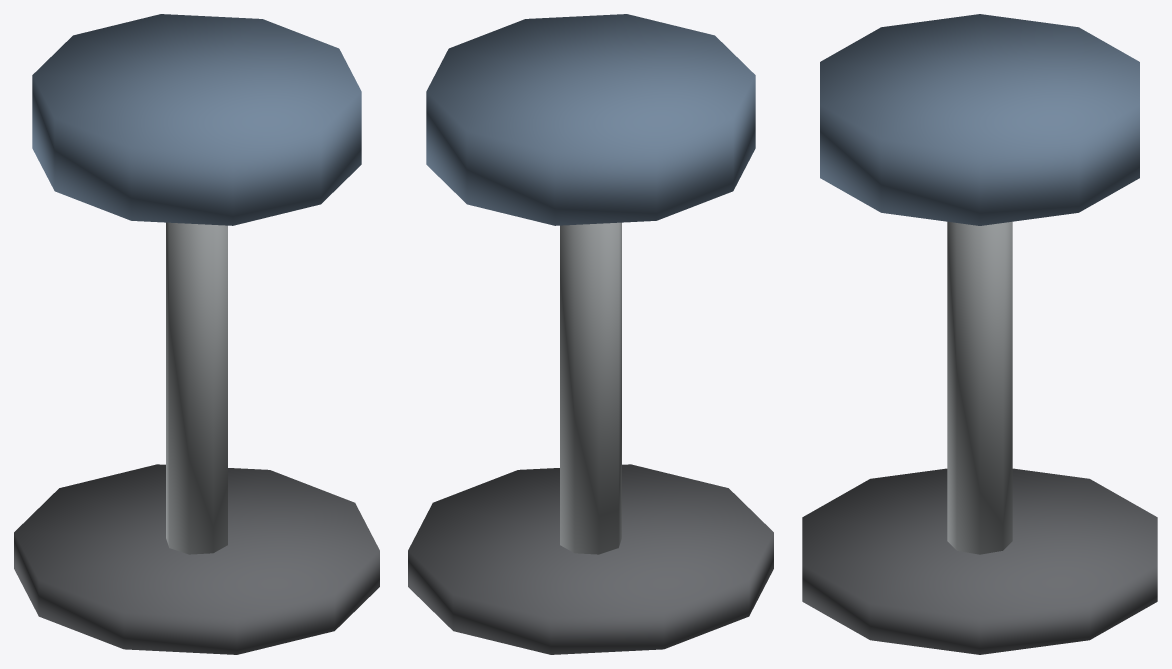
The model's file is lab_stool__compact.glb.
3 renders of one model, left to right at view 1: azimuth 30°, elevation 25°; view 2: azimuth 150°, elevation 25°; view 3: azimuth 270°, elevation 25°, orthographic.
Visible parts, largest first — view 1: world; view 2: world; view 3: world.
Part boxes in pixels (x1,y1,x2,y2): world: (14, 14, 379, 654); world: (408, 14, 773, 654); world: (802, 14, 1157, 654).
Bounding box in the file's own units: 0.336 × 0.5022 × 0.3272.
